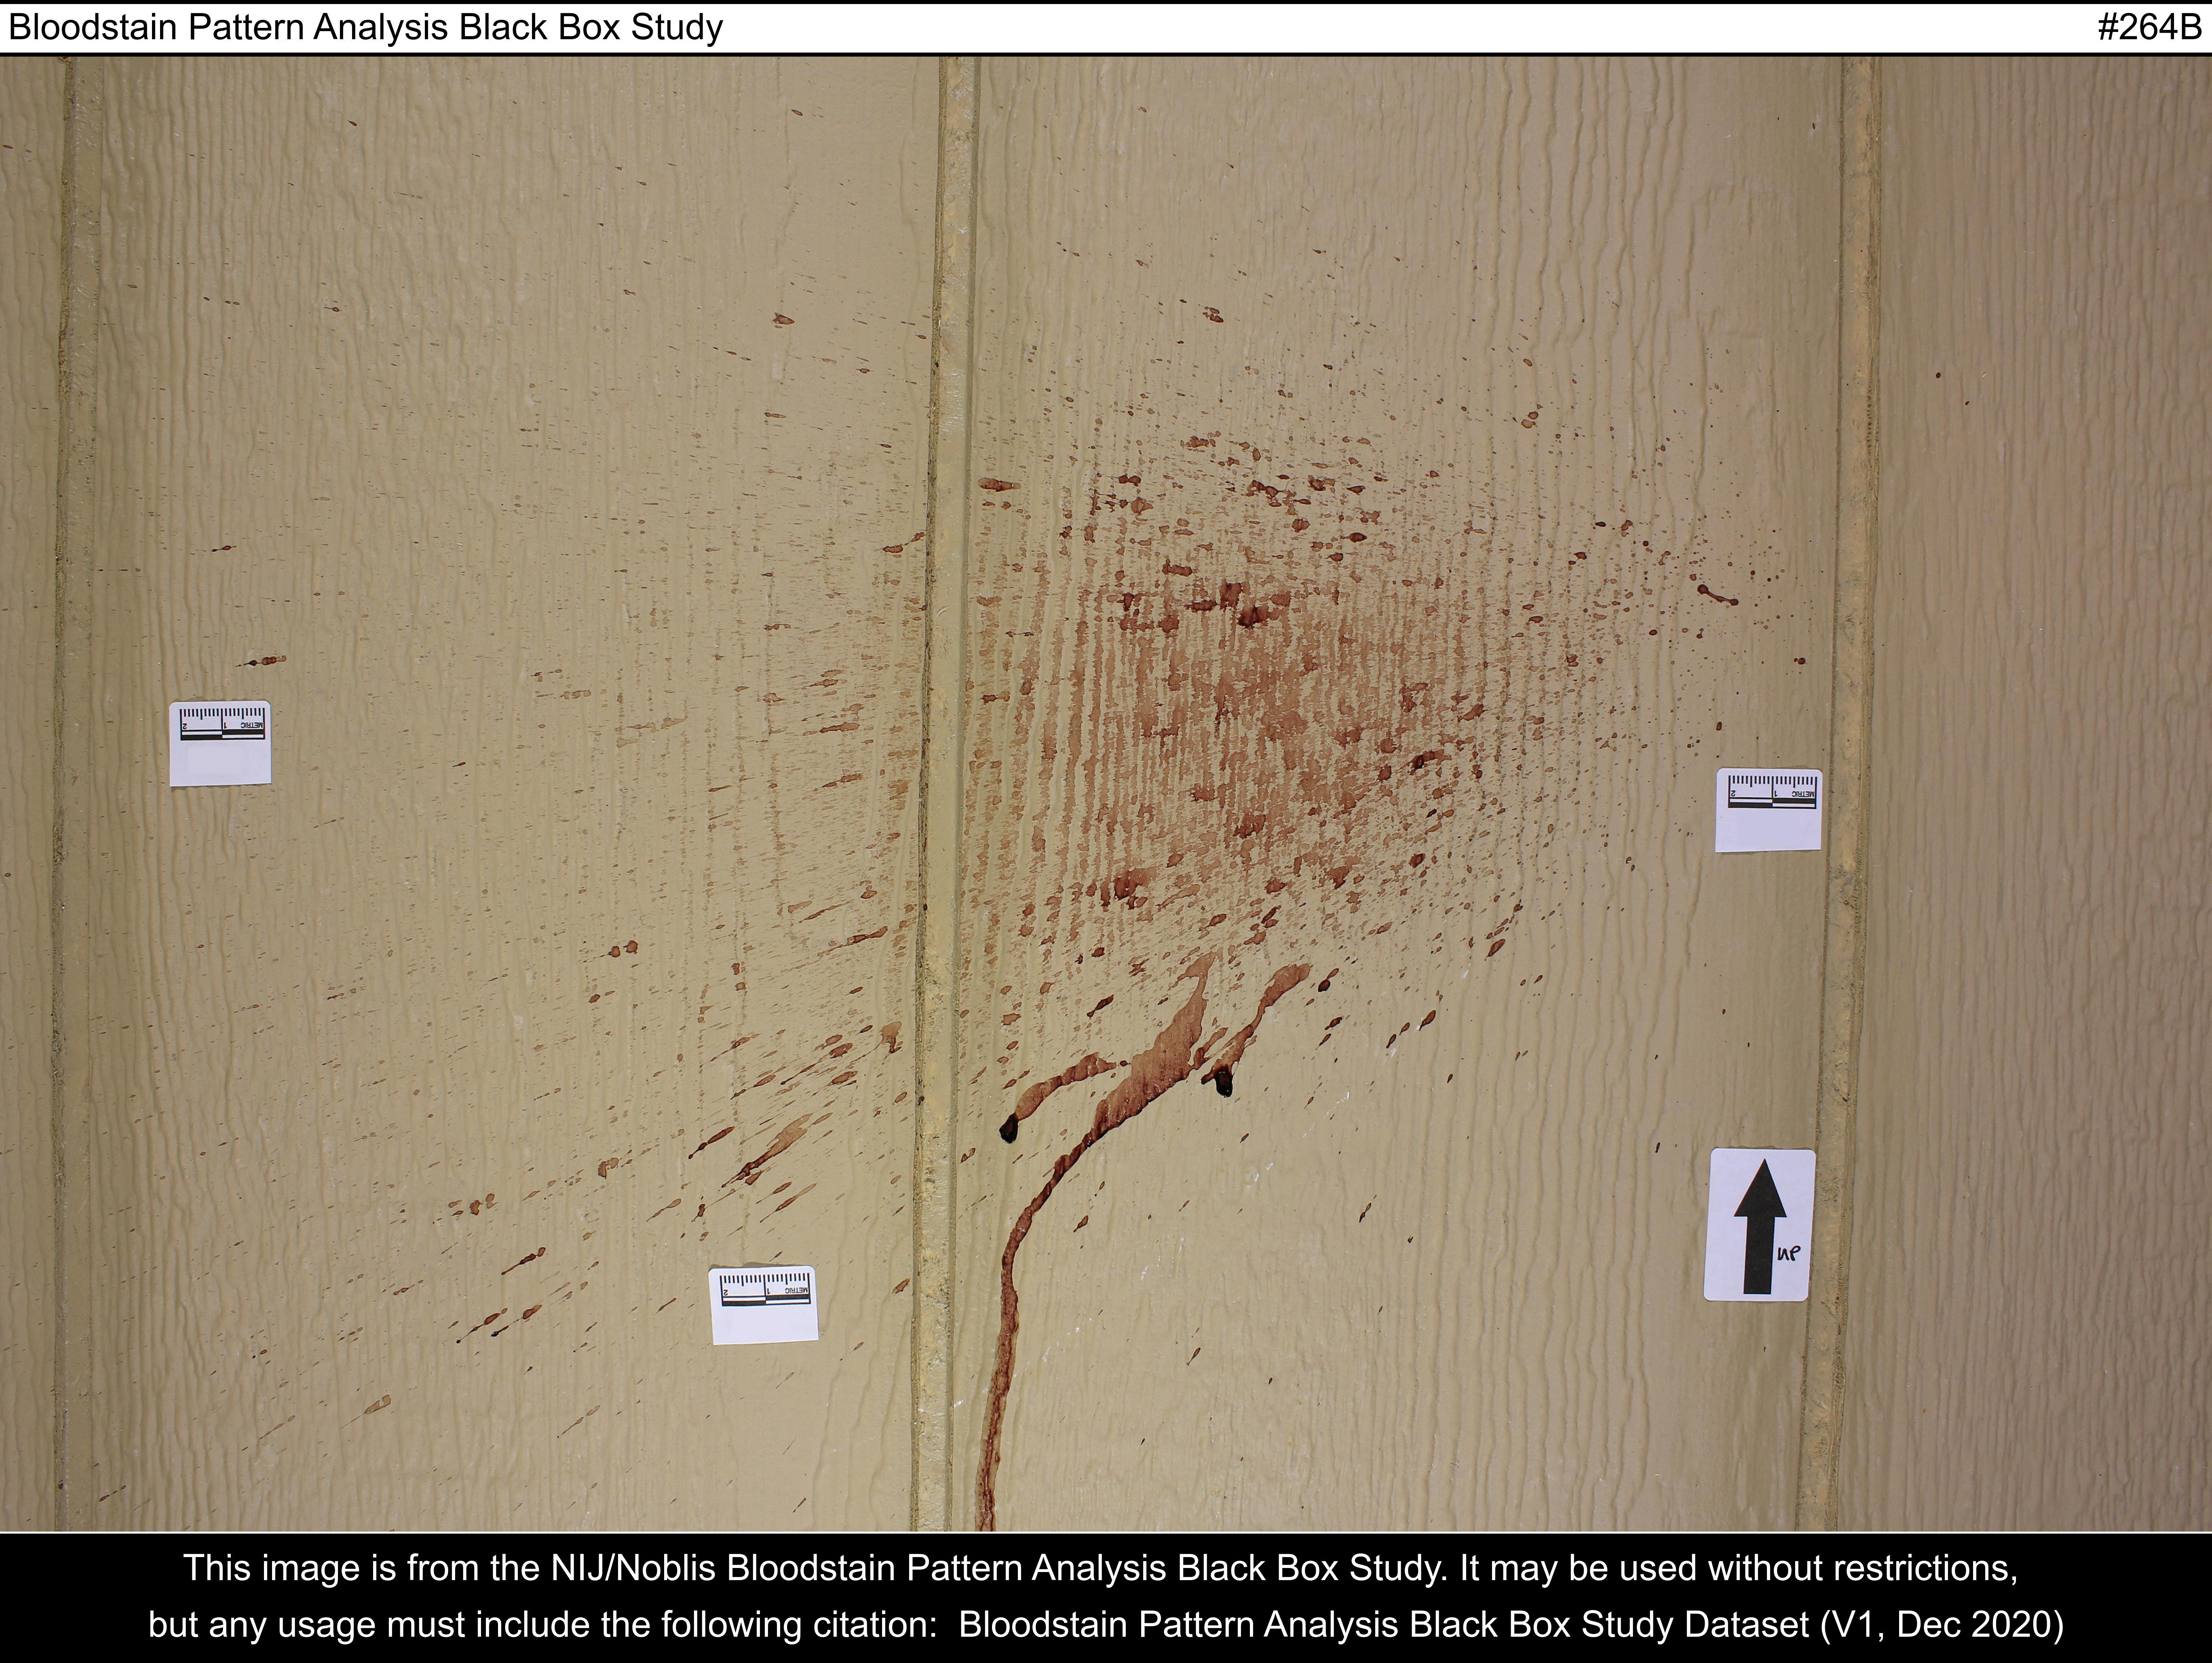Impact: (419, 115, 1770, 1539)
